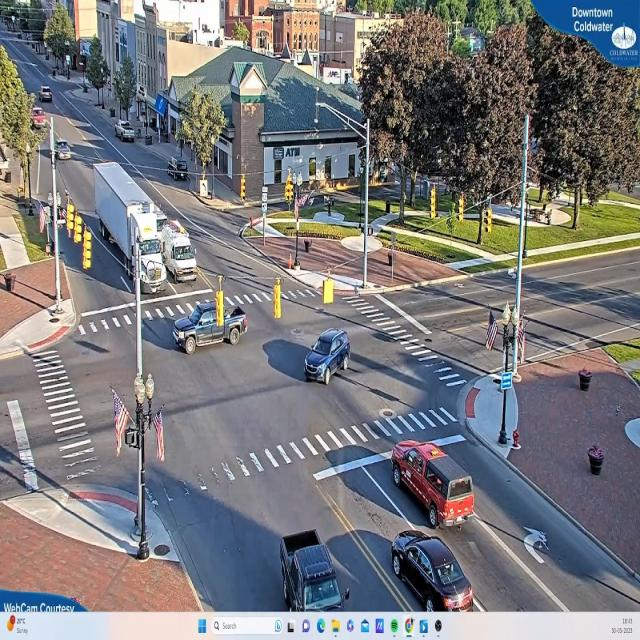car: (391, 438, 477, 530), (390, 530, 480, 612), (282, 542, 346, 612), (174, 301, 249, 353), (303, 330, 350, 385), (117, 122, 137, 144), (54, 138, 73, 159), (42, 88, 54, 102)
truck: (94, 154, 167, 294)
